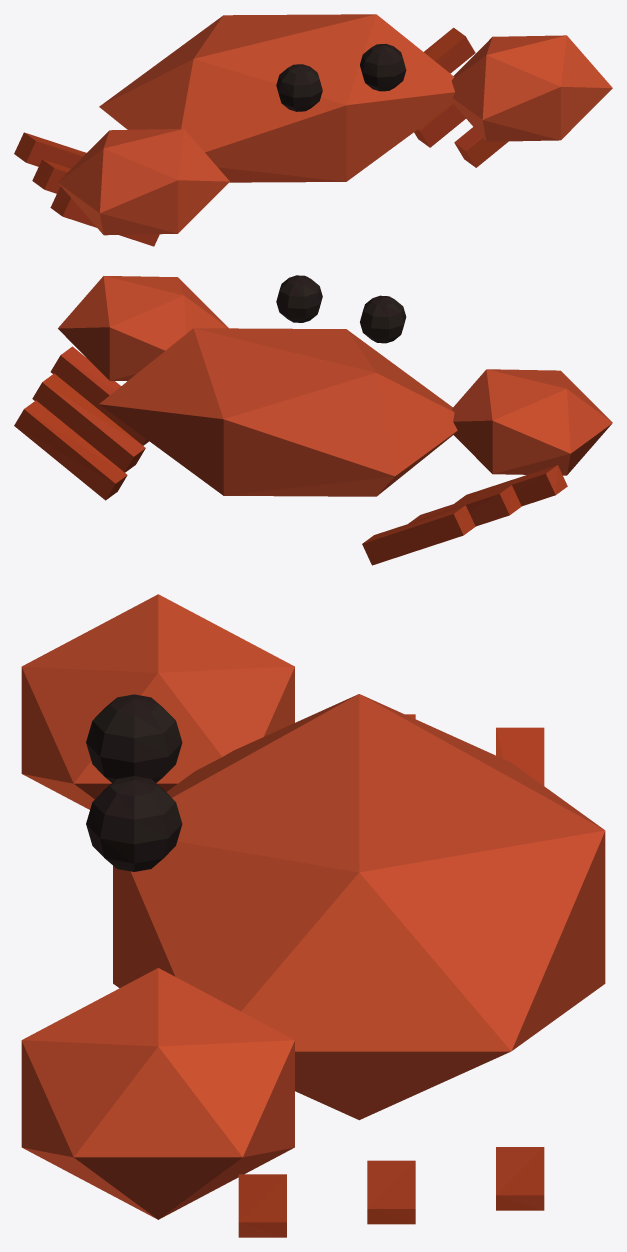
File: bete-crabe.glb
3 renders of one model, top to bottom at view 1: azimuth 30°, elevation 25°; view 2: azimuth 150°, elevation 25°; view 3: azimuth 270°, elevation 25°, orthographic. The views are drawn at different scales.
Size of the model in its own units: 0.5667 by 0.18 by 0.2792.
